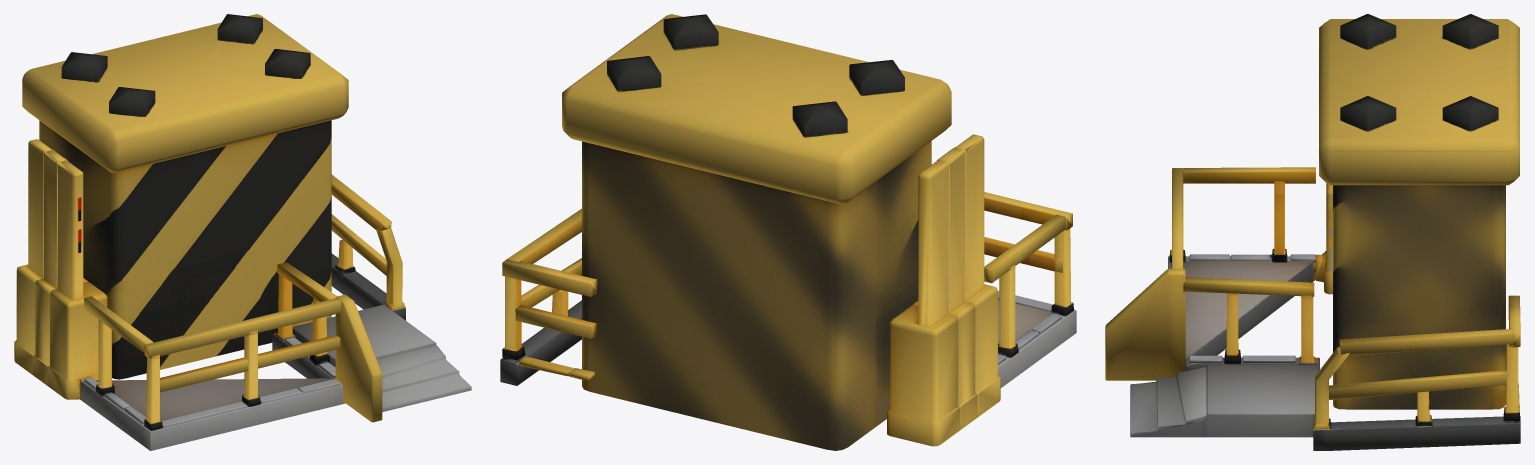
The model's file is selected.glb.
3 renders of one model, left to right at view 1: azimuth 30°, elevation 25°; view 2: azimuth 150°, elevation 25°; view 3: azimuth 270°, elevation 25°, orthographic. The views are drawn at different scales.
Visible parts, largest first — view 1: tripo_node_f04d0a2a-bea4-4b4e-a8a1-4647c9248b7a; view 2: tripo_node_f04d0a2a-bea4-4b4e-a8a1-4647c9248b7a; view 3: tripo_node_f04d0a2a-bea4-4b4e-a8a1-4647c9248b7a.
Part boxes in pixels (left/top/right/bottom): tripo_node_f04d0a2a-bea4-4b4e-a8a1-4647c9248b7a: left=14, top=14, right=471, bottom=450; tripo_node_f04d0a2a-bea4-4b4e-a8a1-4647c9248b7a: left=500, top=14, right=1076, bottom=450; tripo_node_f04d0a2a-bea4-4b4e-a8a1-4647c9248b7a: left=1105, top=14, right=1520, bottom=450.
Size of the model in its own units: 0.998 by 0.7949 by 0.998.
Materials: 1 (1 with a texture image).
